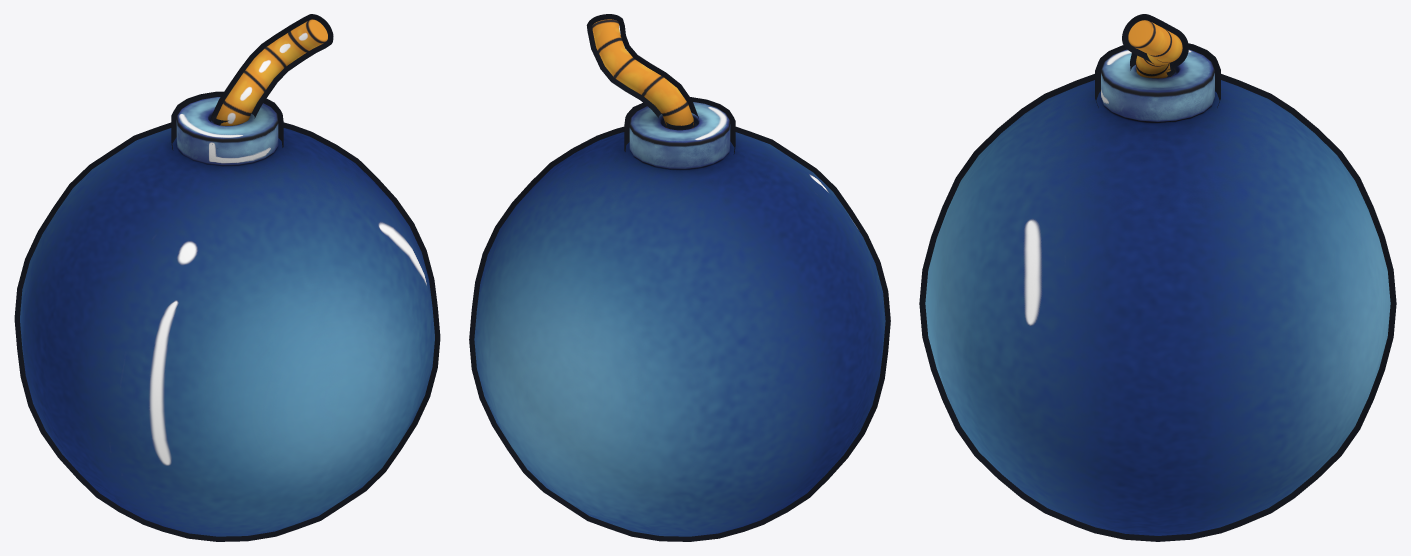
File: enemy_Bomb.glb
3 views of the same model, side by side, from view 1: azimuth 30°, elevation 25°; view 2: azimuth 150°, elevation 25°; view 3: azimuth 270°, elevation 25° (orthographic). The views are drawn at different scales.
Parts seen in each view (by area): view 1: ALTTP_BombBody_GEO, ALTTP_BombBody_OL_GEO, ALTTP_BombCap_GEO, ALTTP_BombWick_GEO, ALTTP_BombWick_OL_GEO, ALTTP_BombCap_OL_GEO; view 2: ALTTP_BombBody_GEO, ALTTP_BombBody_OL_GEO, ALTTP_BombCap_GEO, ALTTP_BombWick_GEO, ALTTP_BombWick_OL_GEO, ALTTP_BombCap_OL_GEO; view 3: ALTTP_BombBody_GEO, ALTTP_BombBody_OL_GEO, ALTTP_BombCap_GEO, ALTTP_BombWick_GEO, ALTTP_BombWick_OL_GEO, ALTTP_BombCap_OL_GEO.
Part boxes in pixels (bbox=[...]): ALTTP_BombBody_GEO: bbox=[20, 128, 434, 536]; ALTTP_BombBody_OL_GEO: bbox=[14, 122, 440, 541]; ALTTP_BombCap_GEO: bbox=[176, 97, 278, 165]; ALTTP_BombWick_GEO: bbox=[216, 19, 327, 125]; ALTTP_BombWick_OL_GEO: bbox=[210, 14, 333, 121]; ALTTP_BombCap_OL_GEO: bbox=[171, 91, 283, 150]; ALTTP_BombBody_GEO: bbox=[474, 132, 885, 536]; ALTTP_BombBody_OL_GEO: bbox=[469, 126, 890, 541]; ALTTP_BombCap_GEO: bbox=[629, 102, 730, 169]; ALTTP_BombWick_GEO: bbox=[592, 19, 693, 128]; ALTTP_BombWick_OL_GEO: bbox=[586, 14, 698, 118]; ALTTP_BombCap_OL_GEO: bbox=[624, 97, 735, 154]; ALTTP_BombBody_GEO: bbox=[925, 80, 1390, 535]; ALTTP_BombBody_OL_GEO: bbox=[919, 74, 1396, 541]; ALTTP_BombCap_GEO: bbox=[1101, 49, 1214, 122]; ALTTP_BombWick_GEO: bbox=[1128, 20, 1182, 78]; ALTTP_BombWick_OL_GEO: bbox=[1122, 14, 1188, 73]; ALTTP_BombCap_OL_GEO: bbox=[1095, 43, 1220, 107].
Size of the model in its own units: 0.0162 by 0.0205 by 0.0162.
Materials: 2 (1 with a texture image).
